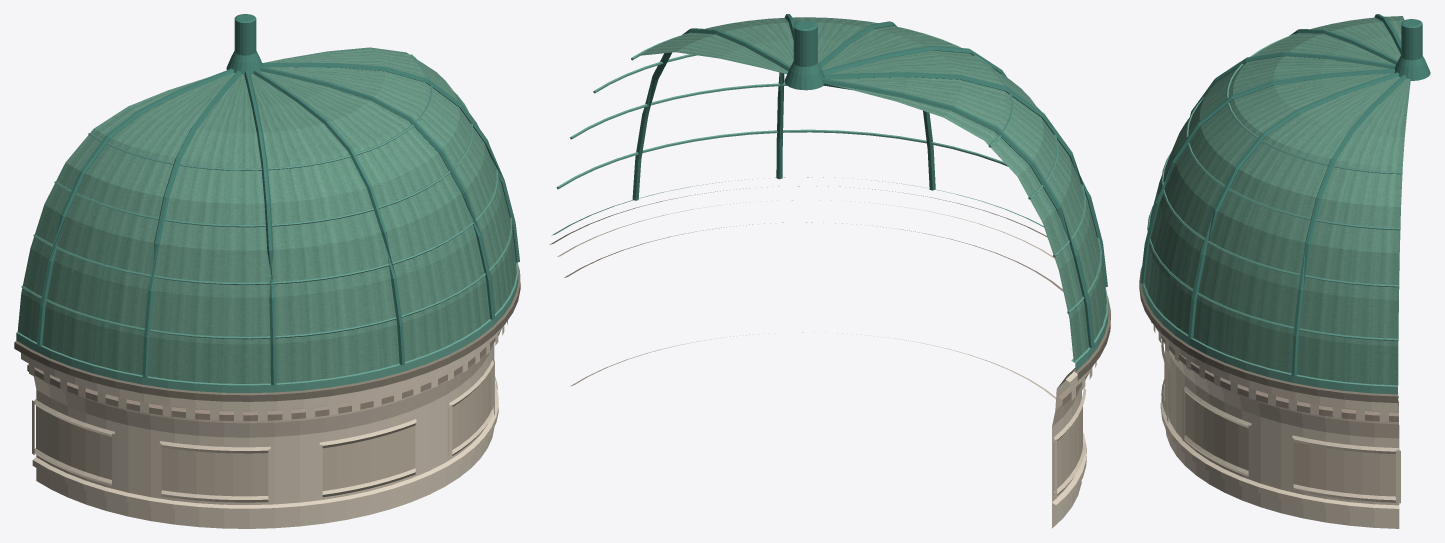
The model's file is zhang-garden-no77-ribbed-cupola-far.glb.
3 renders of one model, left to right at view 1: azimuth 30°, elevation 25°; view 2: azimuth 150°, elevation 25°; view 3: azimuth 270°, elevation 25°, orthographic. The views are drawn at different scales.
Visible parts, largest first — view 1: 张园威海路590弄77号绿肋圆顶与石饰鼓座; view 2: 张园威海路590弄77号绿肋圆顶与石饰鼓座; view 3: 张园威海路590弄77号绿肋圆顶与石饰鼓座.
Boxes of the visible parts, x1,y1,x2,y2 form: 张园威海路590弄77号绿肋圆顶与石饰鼓座: (14,14,520,528); 张园威海路590弄77号绿肋圆顶与石饰鼓座: (549,14,1110,528); 张园威海路590弄77号绿肋圆顶与石饰鼓座: (1139,14,1430,528).
Size of the model in its own units: 3.3 by 2.69 by 1.77.
Materials: 7 (1 with a texture image).
